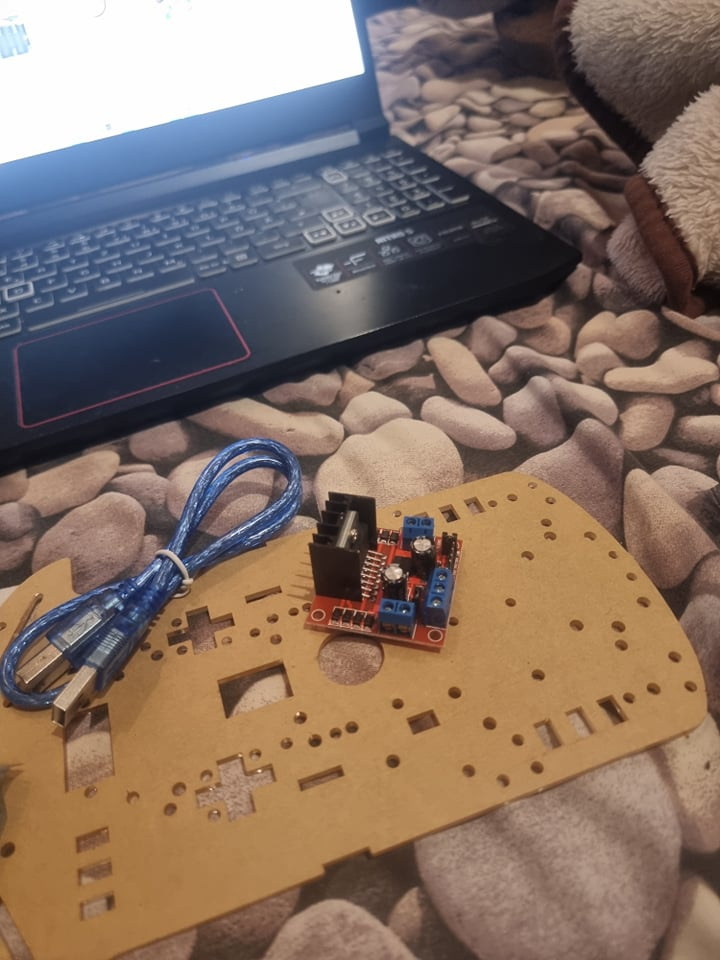MOTOR: (301, 489, 461, 646)
